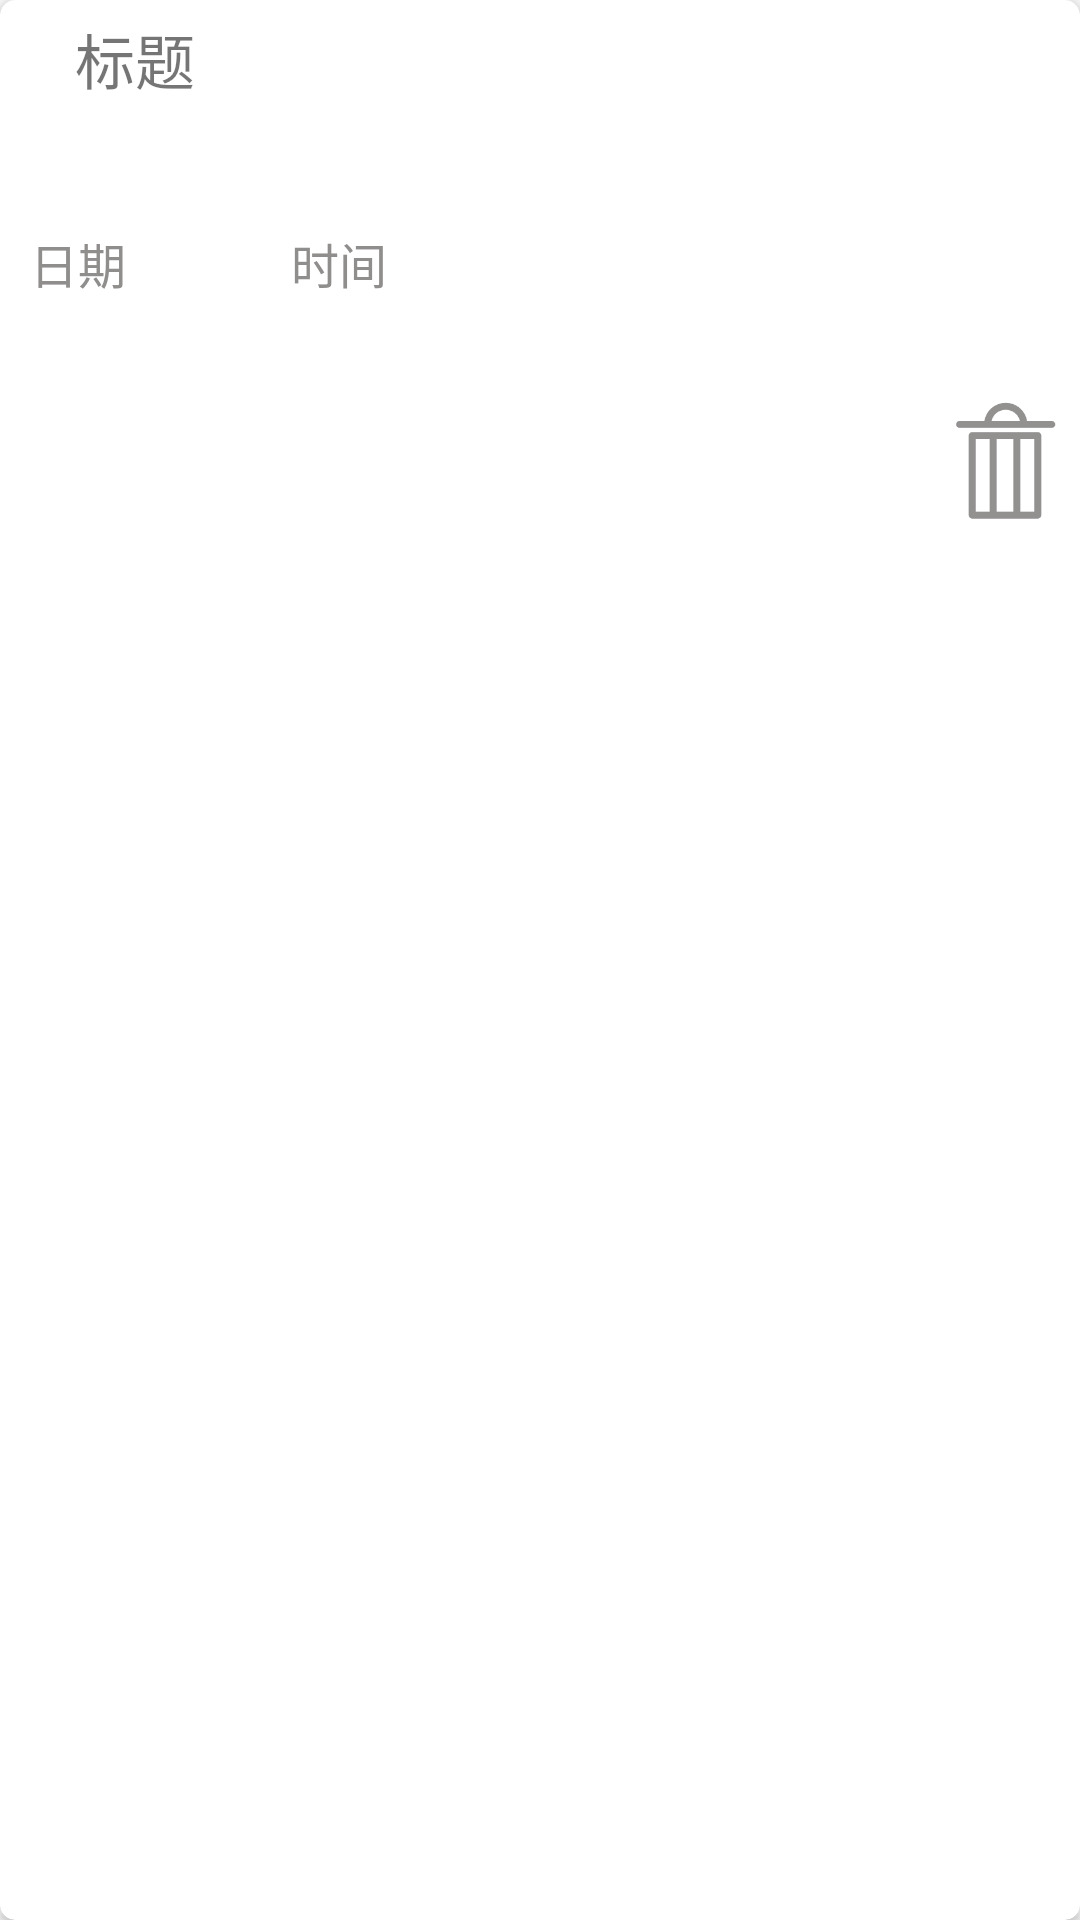

Named icons in this screenshot (1080*1920) and their centers, (x,y):
Delete Note: (1005,461)
